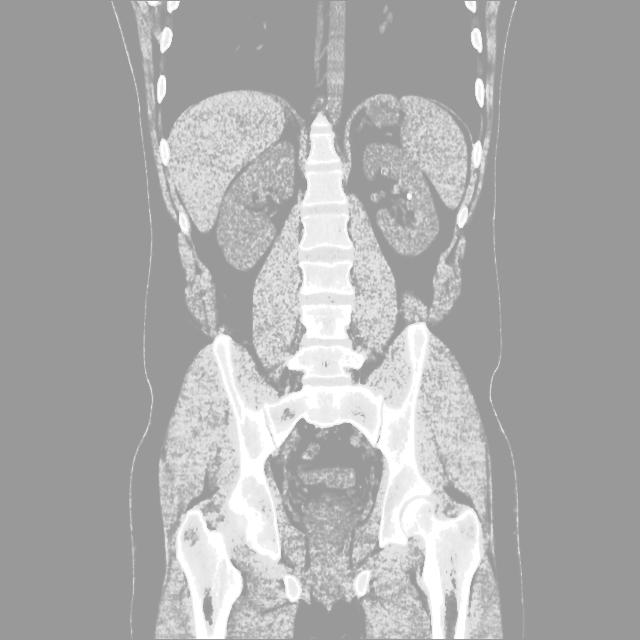STONE: (181, 115, 455, 294)
